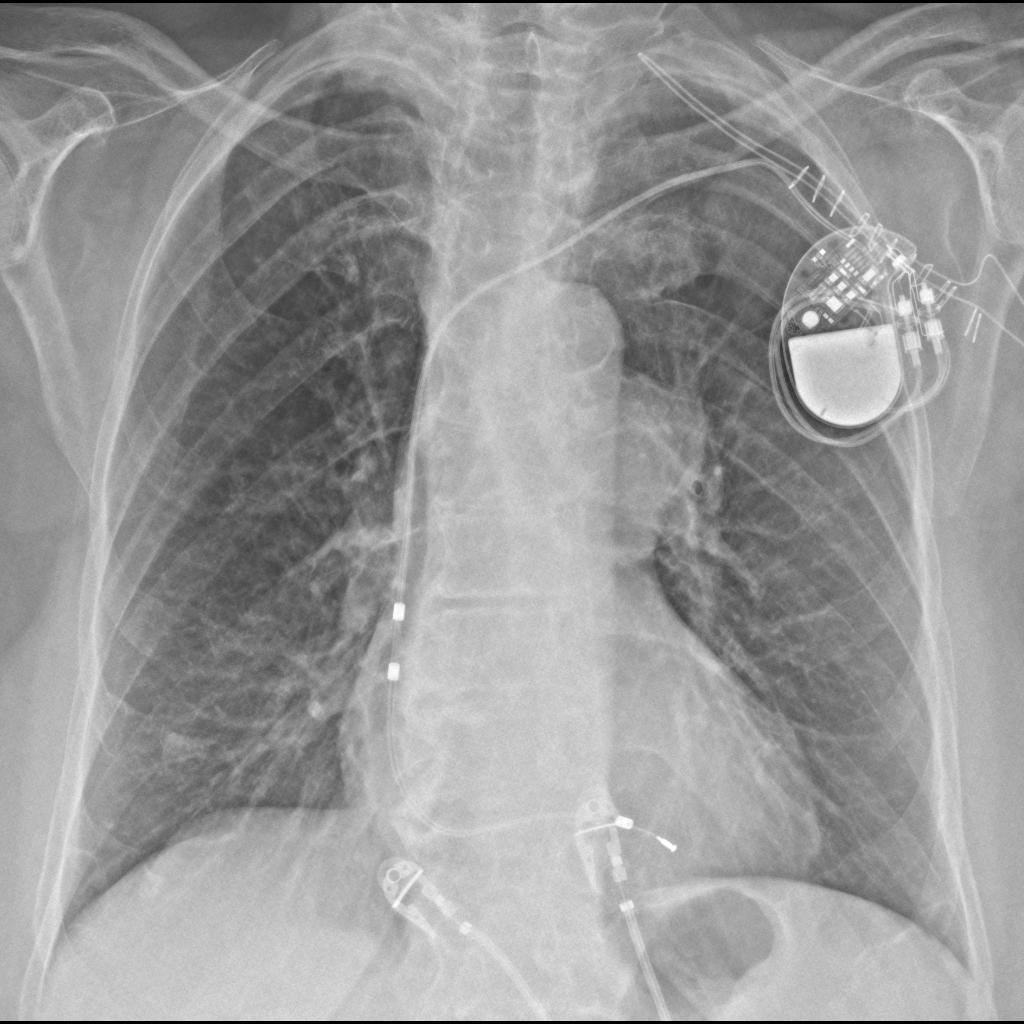Nodule: (154, 727, 200, 776)
